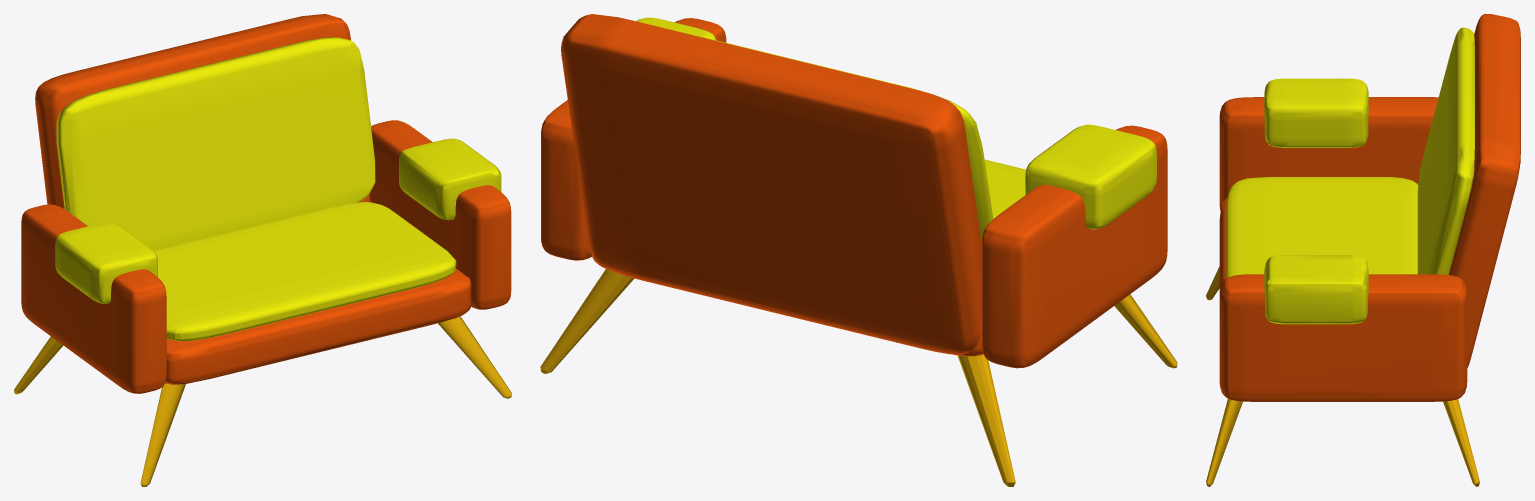
The model's file is level11.fbx.
The picture shows the model from 3 angles, left to right: view 1: azimuth 30°, elevation 25°; view 2: azimuth 150°, elevation 25°; view 3: azimuth 270°, elevation 25°; orthographic projection. The views are drawn at different scales.
Visible parts, largest first — view 1: polySurface1; view 2: polySurface1; view 3: polySurface1.
Boxes of the visible parts, bbox=[...] form: polySurface1: bbox=[14, 14, 511, 486]; polySurface1: bbox=[540, 14, 1177, 486]; polySurface1: bbox=[1206, 14, 1520, 486].
Size of the model in its own units: 5.7 by 3.97 by 3.63.
